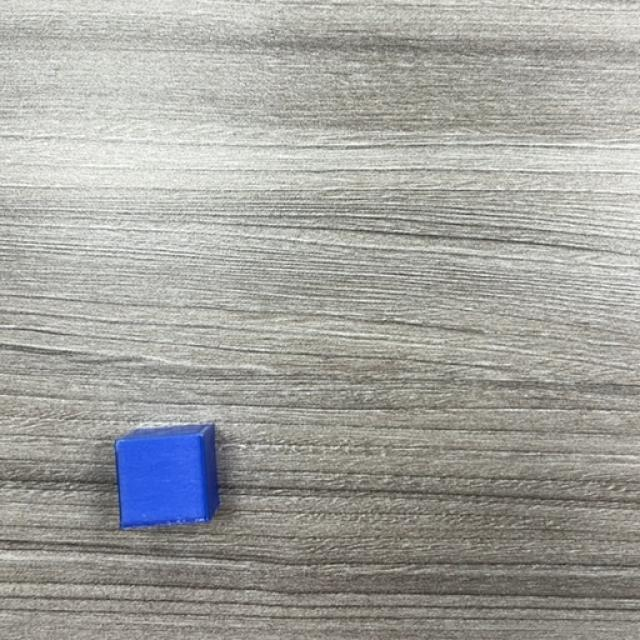Azul: (114, 424, 221, 531)
